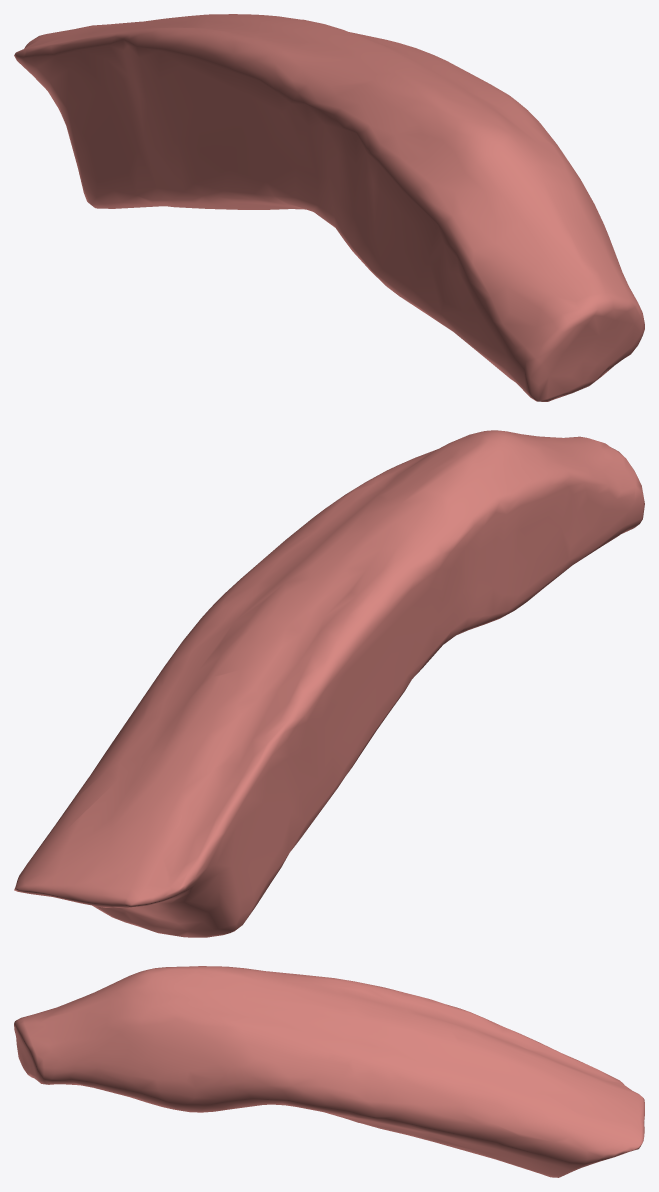
Rendered from fma46327_mm1132.glb.
3 views of the same model, one above another, from view 1: azimuth 30°, elevation 25°; view 2: azimuth 150°, elevation 25°; view 3: azimuth 270°, elevation 25° (orthographic). The views are drawn at different scales.
Parts seen in each view (by area): view 1: FMA46327_MM1132; view 2: FMA46327_MM1132; view 3: FMA46327_MM1132.
Boxes of the visible parts, box(x1,y1,x2,y2) form: FMA46327_MM1132: box(14, 14, 644, 401); FMA46327_MM1132: box(14, 430, 644, 937); FMA46327_MM1132: box(14, 966, 644, 1177).
Bounding box in the file's own units: 0.0074 × 0.01 × 0.0303.
